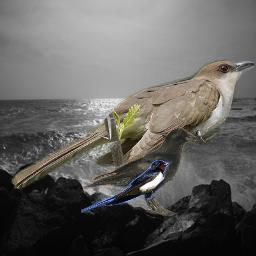Crow: (83, 127, 196, 216)
Cuckoo: (10, 58, 254, 189)
Swallow: (80, 160, 169, 213)
